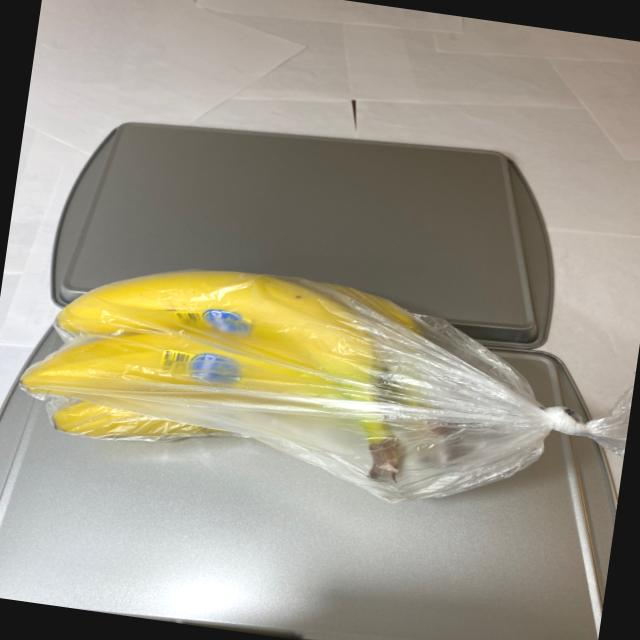banana: (5, 236, 502, 521)
